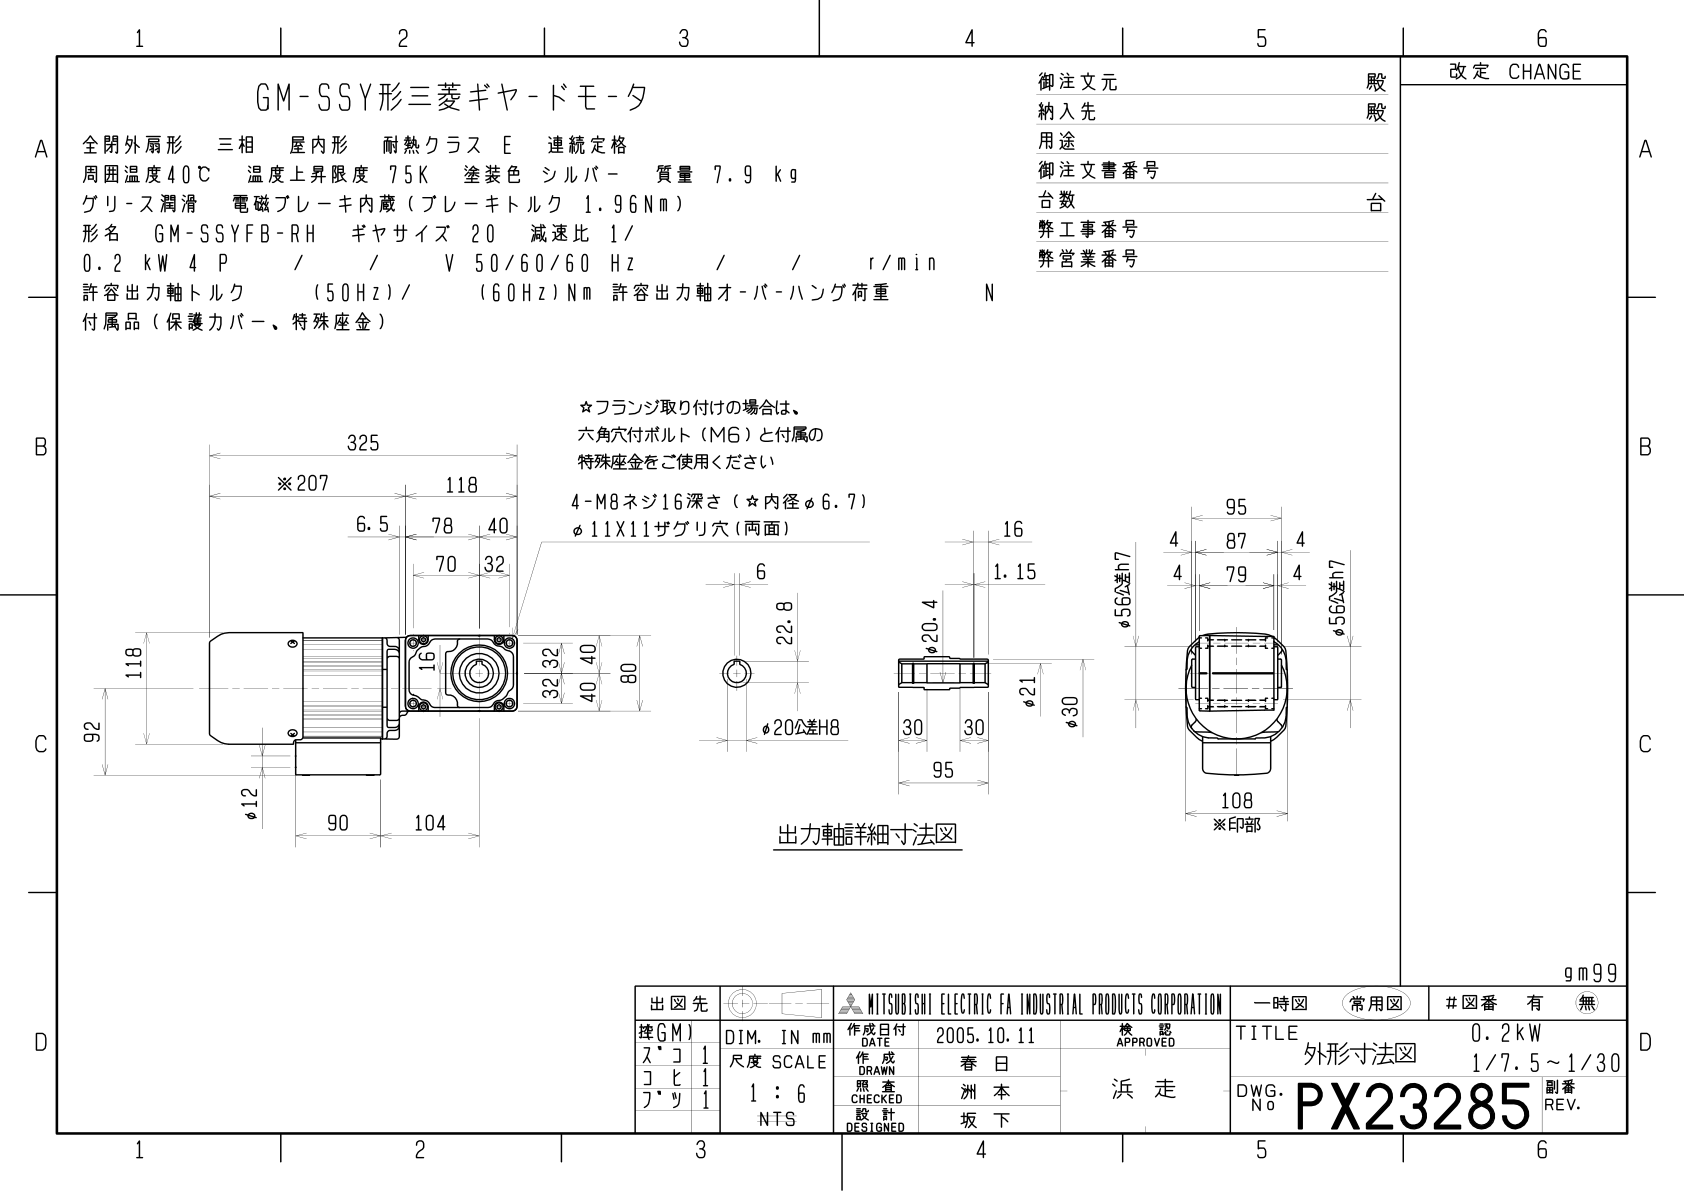GM_SSY_屋内_三相: (12, 24, 1684, 1191)
